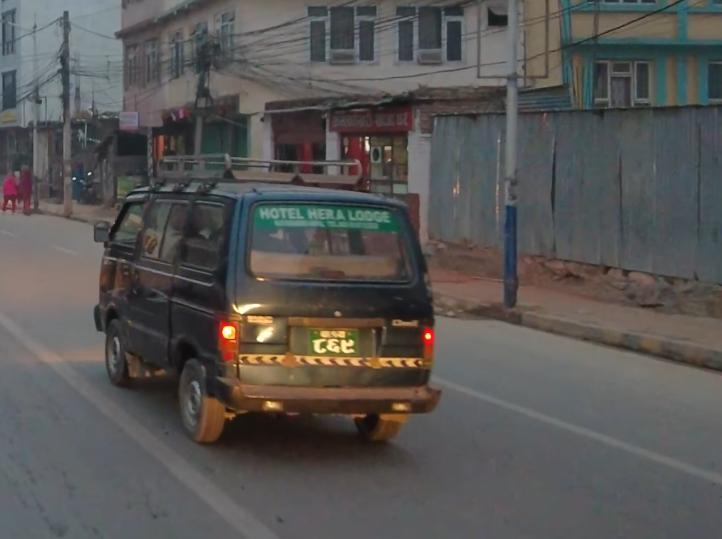van: (88, 146, 448, 460)
